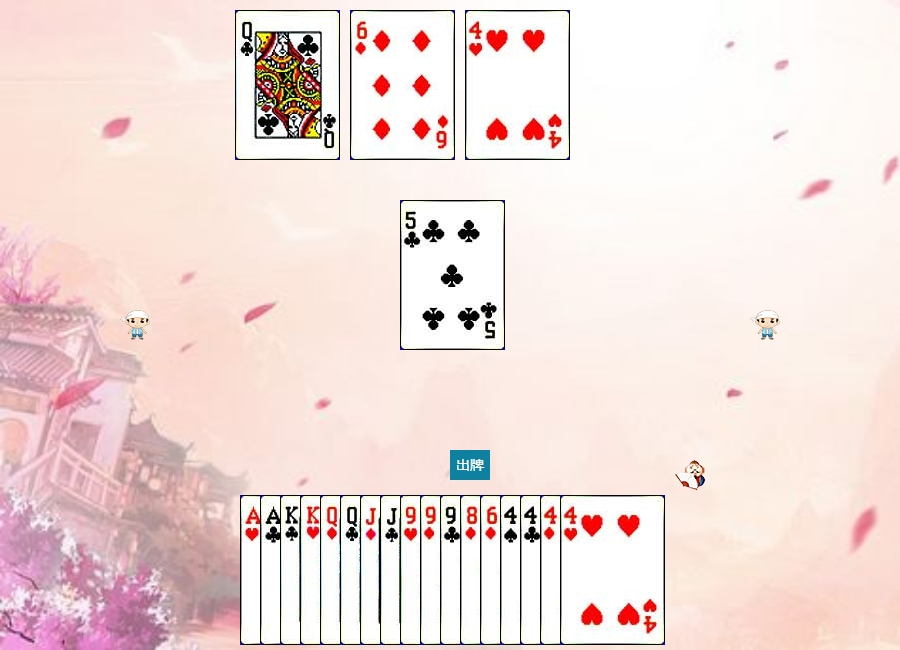11~1: (360, 495, 465, 645)
11~2: (380, 495, 485, 645)
12~1: (320, 495, 425, 645)
12~2: (235, 10, 340, 160), (340, 495, 445, 645)
13~2: (280, 495, 385, 645)
13~3: (300, 495, 405, 645)
14~2: (260, 495, 365, 645)
14~3: (240, 495, 345, 645)
4~1: (540, 495, 645, 645)
4~2: (520, 495, 625, 645)
4~3: (465, 10, 570, 160), (560, 495, 665, 645)
4~4: (500, 495, 605, 645)
5~2: (400, 200, 505, 350)
6~1: (350, 10, 455, 160), (480, 495, 585, 645)
8~1: (460, 495, 565, 645)
9~1: (420, 495, 525, 645)
9~2: (440, 495, 545, 645)
9~3: (400, 495, 505, 645)
